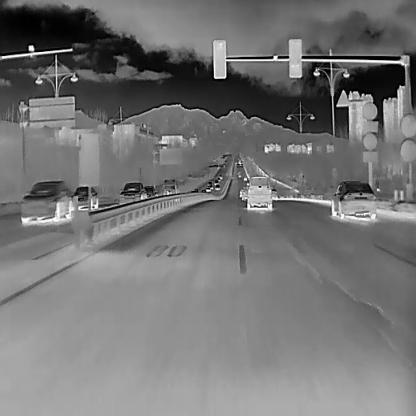car: (19, 180, 72, 224), (329, 180, 376, 220), (245, 174, 272, 210), (72, 184, 98, 210), (119, 180, 146, 205), (142, 184, 158, 198), (269, 186, 278, 202), (213, 183, 220, 190), (218, 172, 223, 179), (213, 178, 218, 184), (205, 185, 210, 191), (236, 172, 242, 177), (207, 180, 212, 186), (215, 175, 220, 180), (242, 175, 247, 180), (192, 187, 197, 192)
truck: (161, 178, 182, 199), (240, 186, 249, 202)
